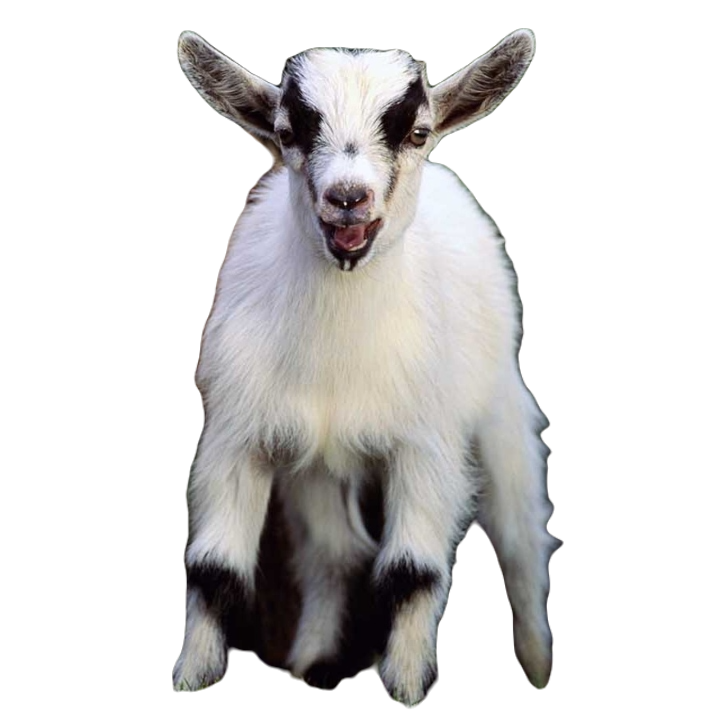Goat: (170, 22, 554, 706)
